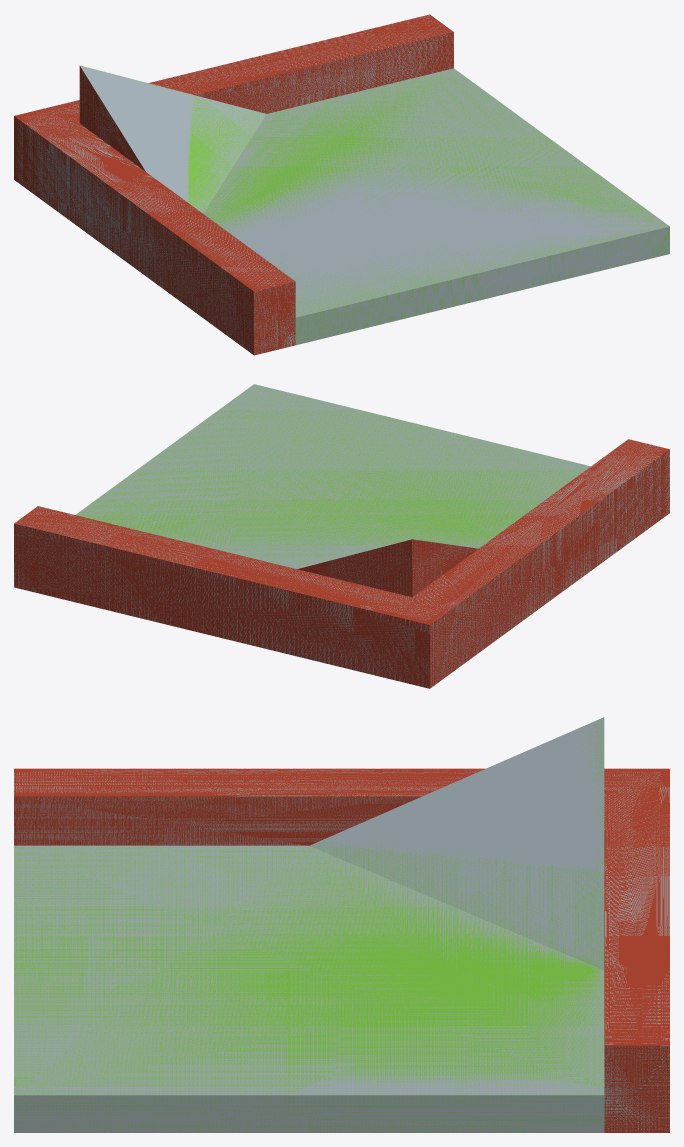
File: Hill_corner_01.obj
3 views of the same model, one above another, from view 1: azimuth 30°, elevation 25°; view 2: azimuth 150°, elevation 25°; view 3: azimuth 270°, elevation 25° (orthographic). The views are drawn at different scales.
Parts seen in each view (by area): view 1: Mesh1 Hill_corner Model; view 2: Mesh1 Hill_corner Model; view 3: Mesh1 Hill_corner Model.
Part boxes in pixels (bbox=[...]): Mesh1 Hill_corner Model: bbox=[14, 14, 669, 355]; Mesh1 Hill_corner Model: bbox=[14, 384, 669, 688]; Mesh1 Hill_corner Model: bbox=[14, 717, 669, 1132].
Size of the model in its own units: 3 by 0.84 by 3.
